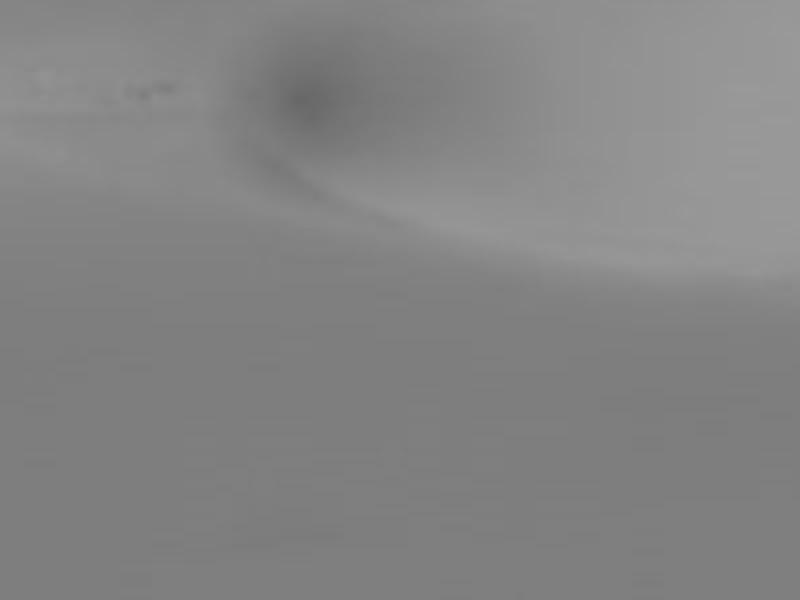defect: (259, 53, 368, 158), (158, 78, 175, 96), (138, 88, 149, 100)
